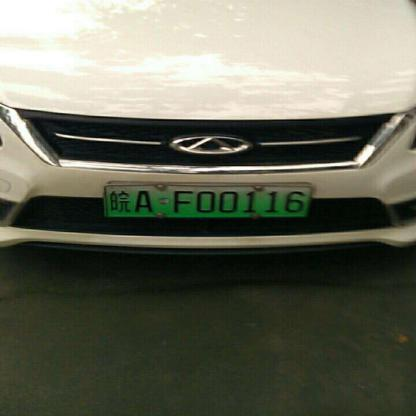lp: (105, 186, 311, 216)
